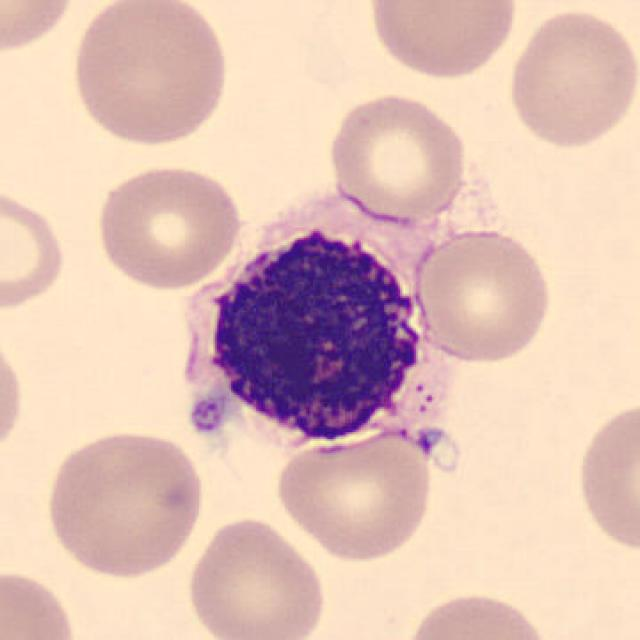Basophil: (162, 190, 464, 466)
RBC: (41, 425, 208, 582), (66, 0, 233, 148), (272, 425, 439, 564), (91, 160, 247, 292), (411, 226, 556, 366), (503, 3, 638, 152), (324, 88, 469, 224), (183, 513, 331, 640), (364, 0, 522, 81), (570, 395, 640, 559), (0, 179, 69, 315), (398, 585, 555, 640), (0, 564, 82, 640), (0, 0, 80, 56), (0, 324, 28, 467)
